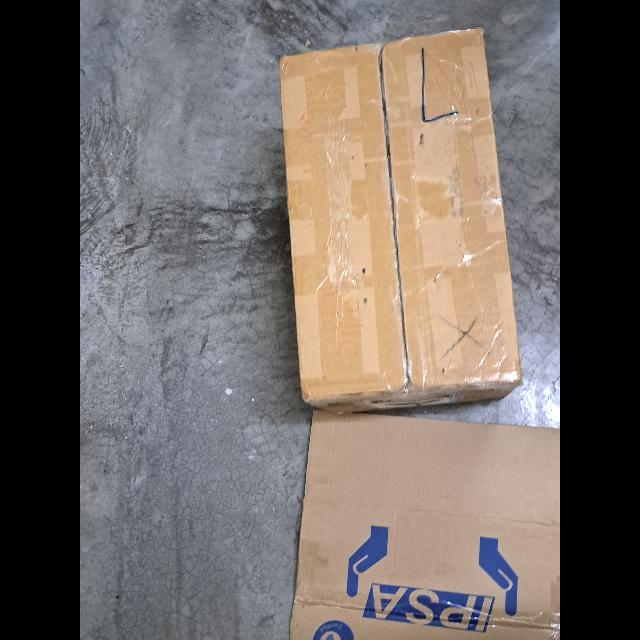papelão: (276, 30, 522, 412), (286, 412, 560, 640)
